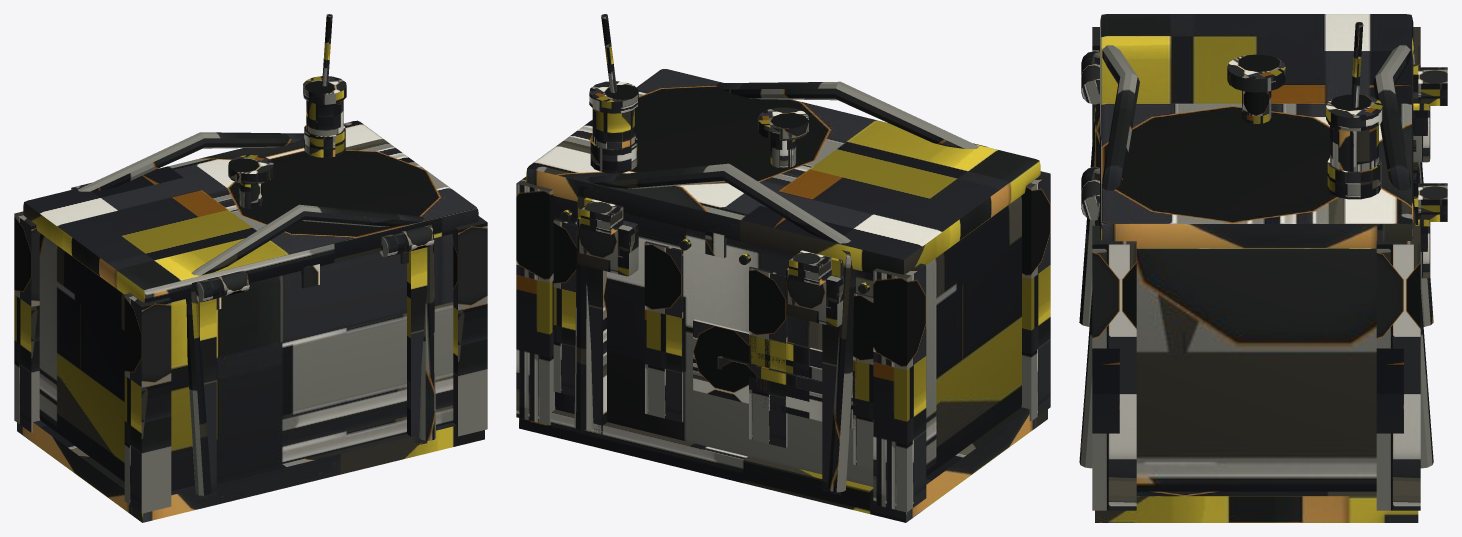
File: PR_airdrop_crate.glb
3 renders of one model, left to right at view 1: azimuth 30°, elevation 25°; view 2: azimuth 150°, elevation 25°; view 3: azimuth 270°, elevation 25°, orthographic. The views are drawn at different scales.
Visible parts, largest first — view 1: PR_airdrop_crate; view 2: PR_airdrop_crate; view 3: PR_airdrop_crate.
Part boxes in pixels (<box>): PR_airdrop_crate: <box>14,14,487,522</box>; PR_airdrop_crate: <box>516,14,1050,522</box>; PR_airdrop_crate: <box>1079,14,1447,522</box>.
Bounding box in the file's own units: 1.05 × 1.05 × 0.7517.
1 material, 1 textured.
